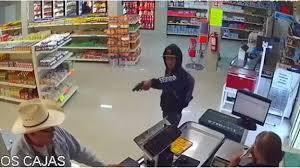weapon: (130, 81, 151, 92)
